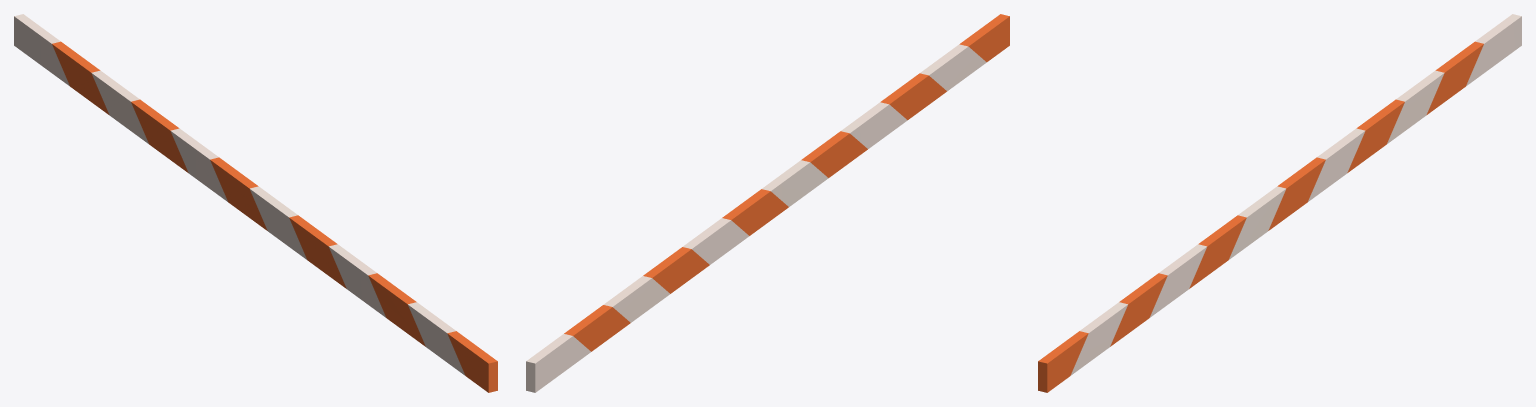
The model's file is raochan.fbx.
3 views of the same model, side by side, from view 1: azimuth 30°, elevation 25°; view 2: azimuth 150°, elevation 25°; view 3: azimuth 330°, elevation 25° (orthographic).
Parts seen in each view (by area): view 1: raochan; view 2: raochan; view 3: raochan.
Boxes of the visible parts, x1,y1,x2,y2 form: raochan: (14,14,497,392); raochan: (526,14,1009,392); raochan: (1038,14,1521,392).
Size of the model in its own units: 8.24 by 24.97 by 731.
Materials: 1 (1 with a texture image).
